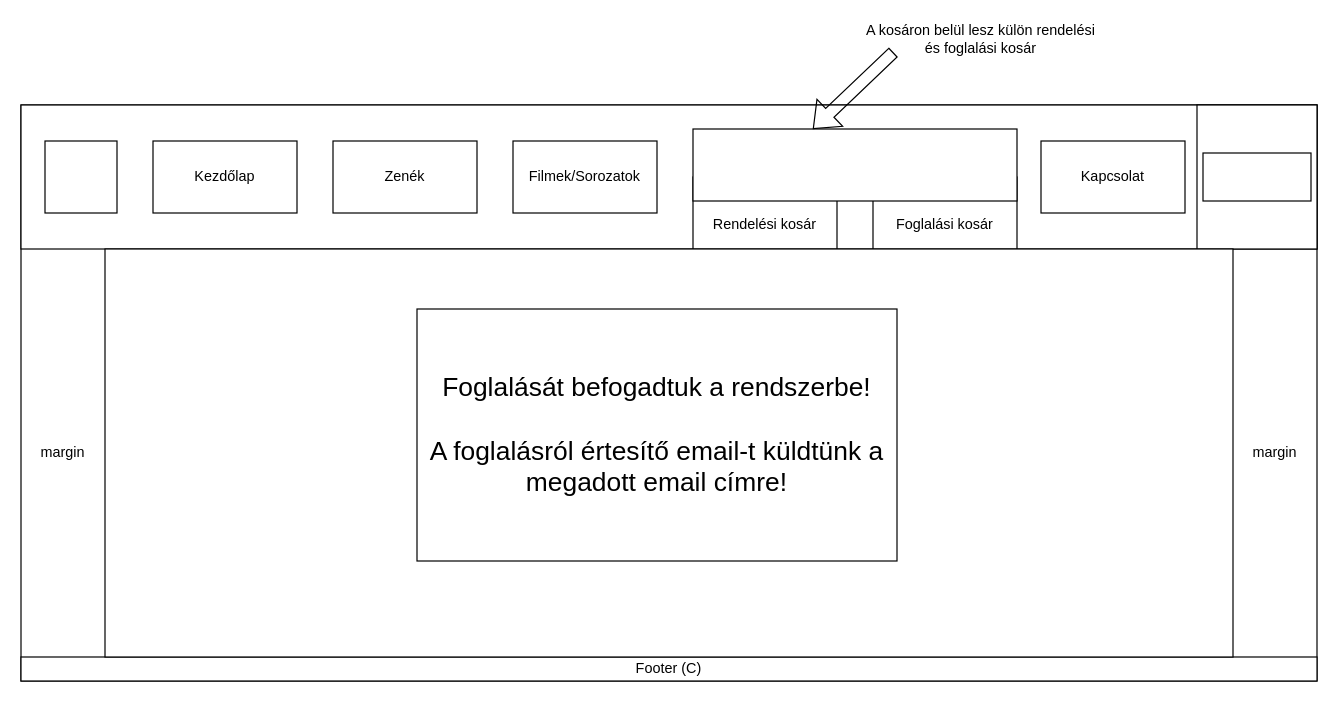
The diagram is 1338 pixels wide and 702 high, and some of its shapes have lost their labels. Each missing label, with the centre of its shape:
"Fiók bej/reg" goes at point 1256,176.
"Kosár" goes at point 854,164.
"Logo" goes at point 80,176.
